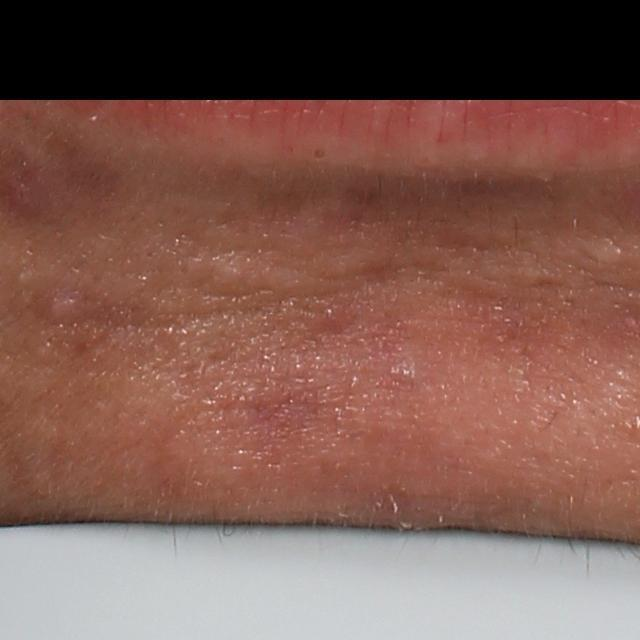comedo: (309, 144, 330, 161)
hypertrophic_scar: (194, 248, 299, 302), (574, 234, 632, 266)
papule: (34, 287, 82, 326)
